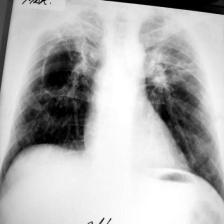tuberculosis: (1, 14, 224, 212)
